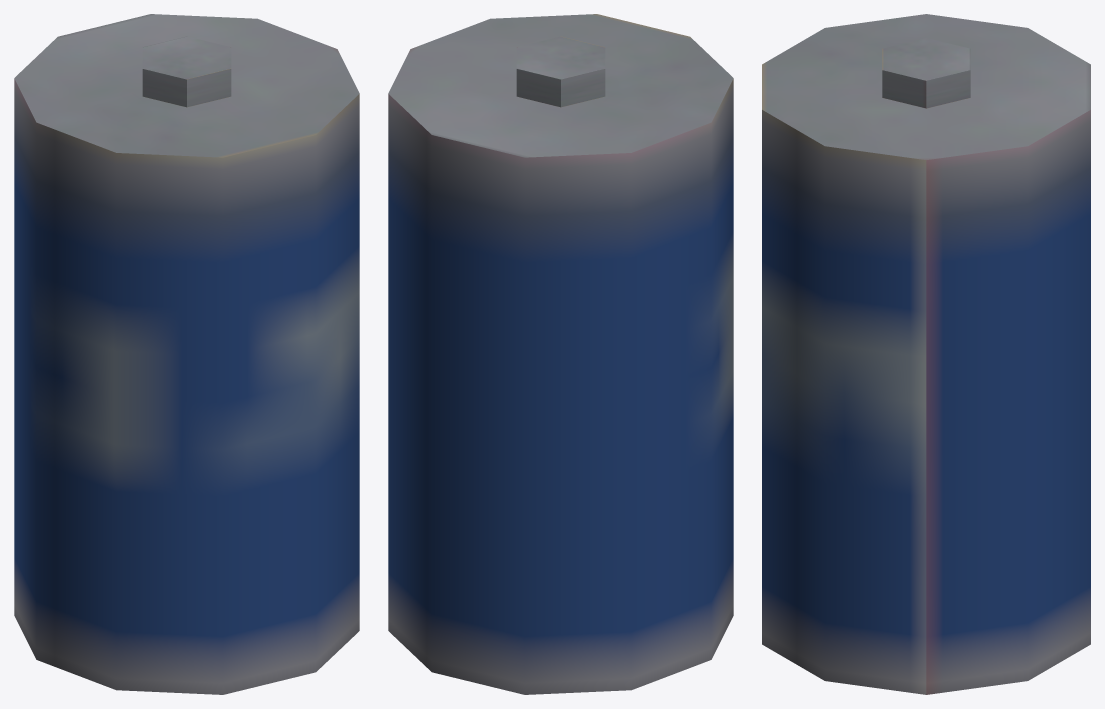
Rendered from battery.obj.
3 renders of one model, left to right at view 1: azimuth 30°, elevation 25°; view 2: azimuth 150°, elevation 25°; view 3: azimuth 270°, elevation 25°, orthographic.
Visible parts, largest first — view 1: battery; view 2: battery; view 3: battery.
Part boxes in pixels (x1,y1,x2,y2): battery: (14, 14, 359, 694); battery: (388, 14, 733, 694); battery: (762, 14, 1090, 694).
Size of the model in its own units: 0.034 by 0.061 by 0.0323.
Materials: 1 (1 with a texture image).
